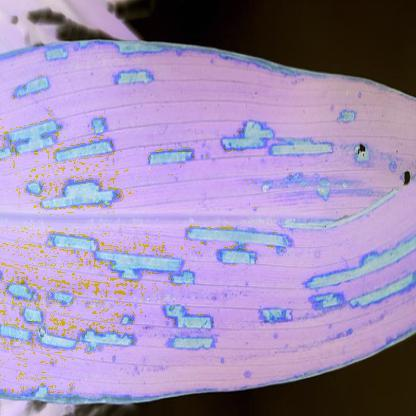Corn Gray leaf spot: (5, 27, 414, 414)
